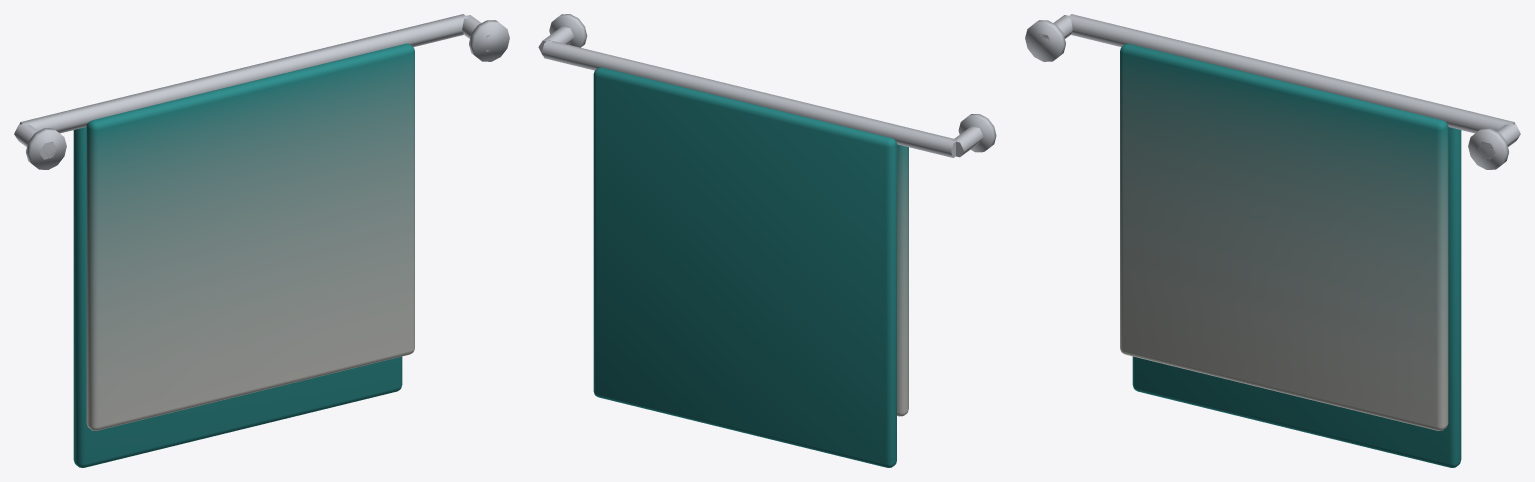
The model's file is towel_rack.glb.
The picture shows the model from 3 angles, left to right: view 1: azimuth 30°, elevation 25°; view 2: azimuth 150°, elevation 25°; view 3: azimuth 330°, elevation 25°; orthographic projection. The views are drawn at different scales.
Visible parts, largest first — view 1: towel_rack; view 2: towel_rack; view 3: towel_rack.
Boxes of the visible parts, x1=… form: towel_rack: x1=14, y1=14, x2=509, y2=467; towel_rack: x1=538, y1=14, x2=996, y2=467; towel_rack: x1=1025, y1=14, x2=1520, y2=467.
Bounding box in the file's own units: 0.65 × 0.485 × 0.085.
